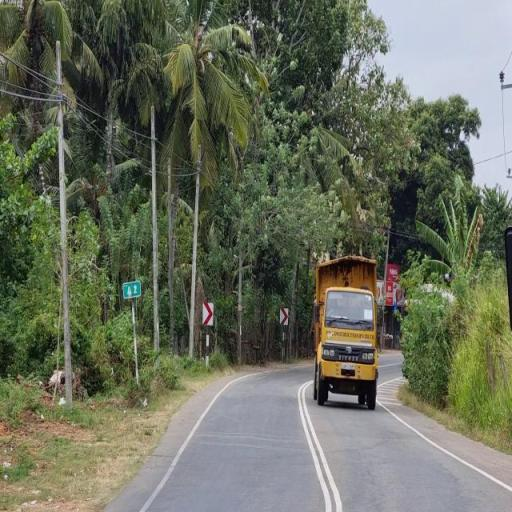double_white_line: (298, 376, 341, 512)
